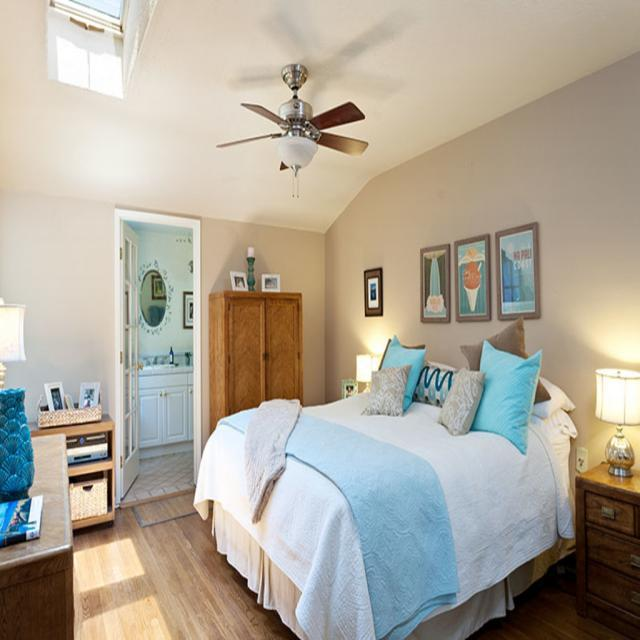fan_off: (220, 64, 367, 152)
